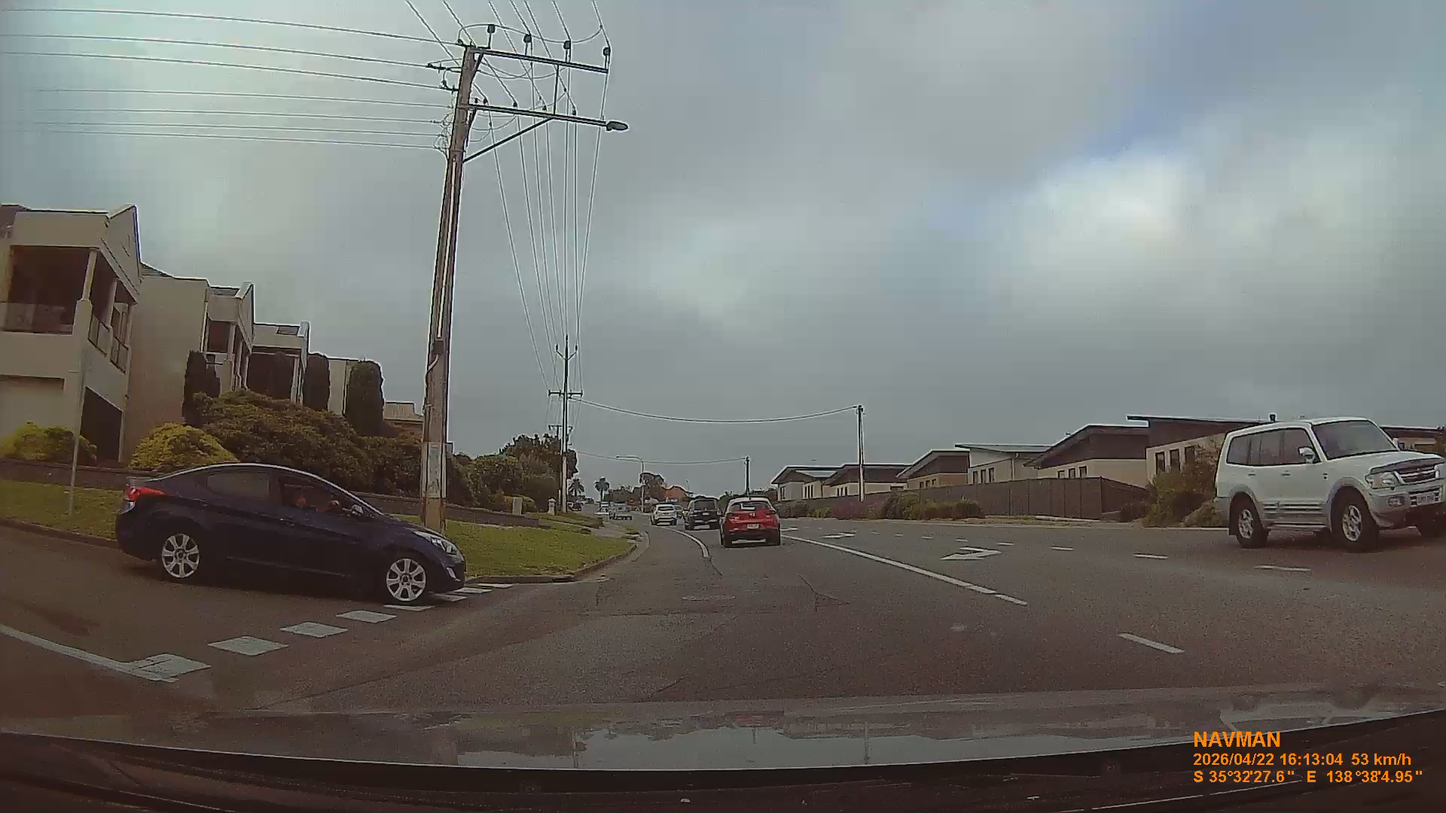fences: (907, 478, 1146, 519)
